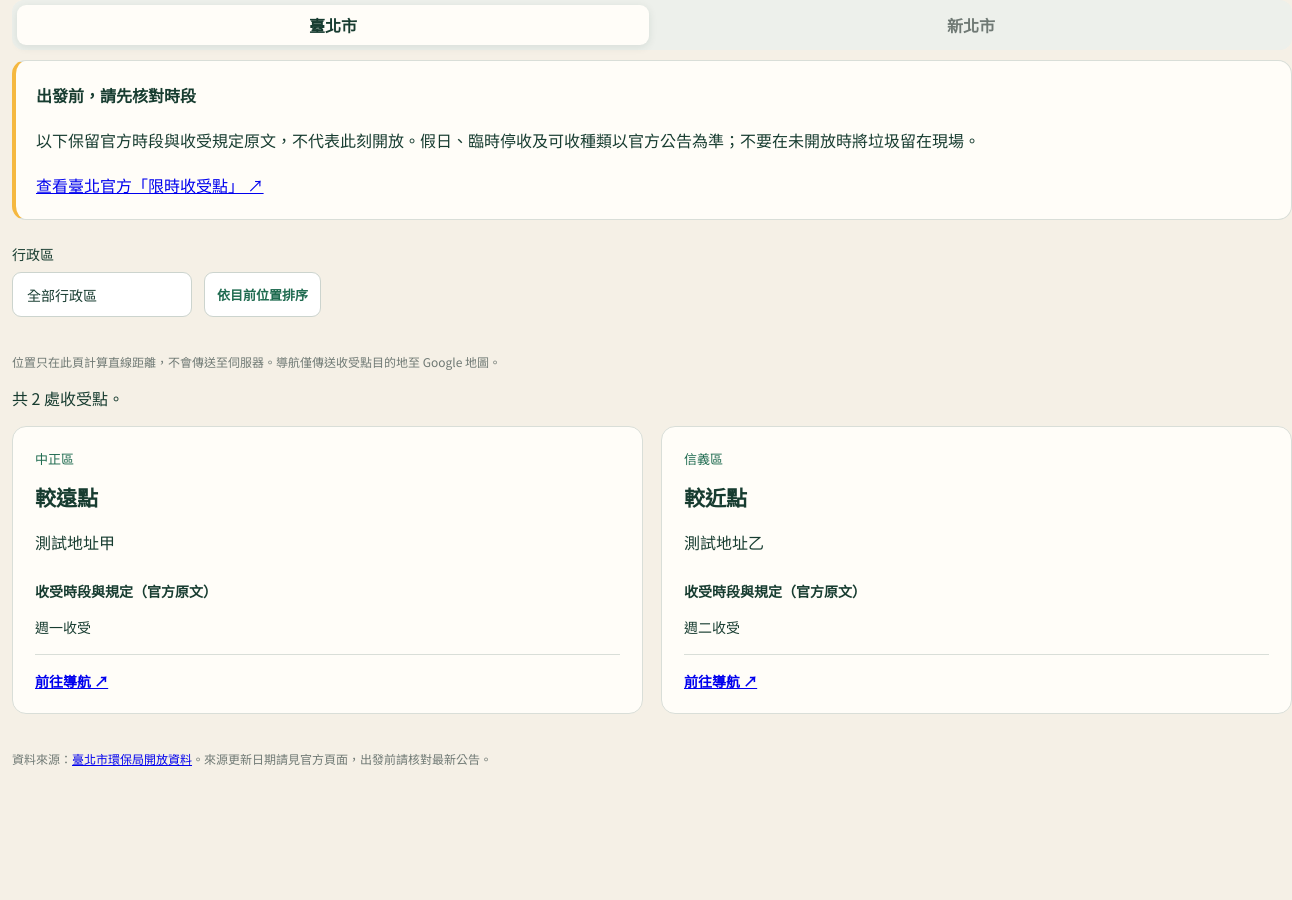
Test case: 定位拒絕後仍可手動查詢，導航不包含使用者起點
Step 1. Click the button "依目前位置排序" → (262, 295), box [204,272,321,317]
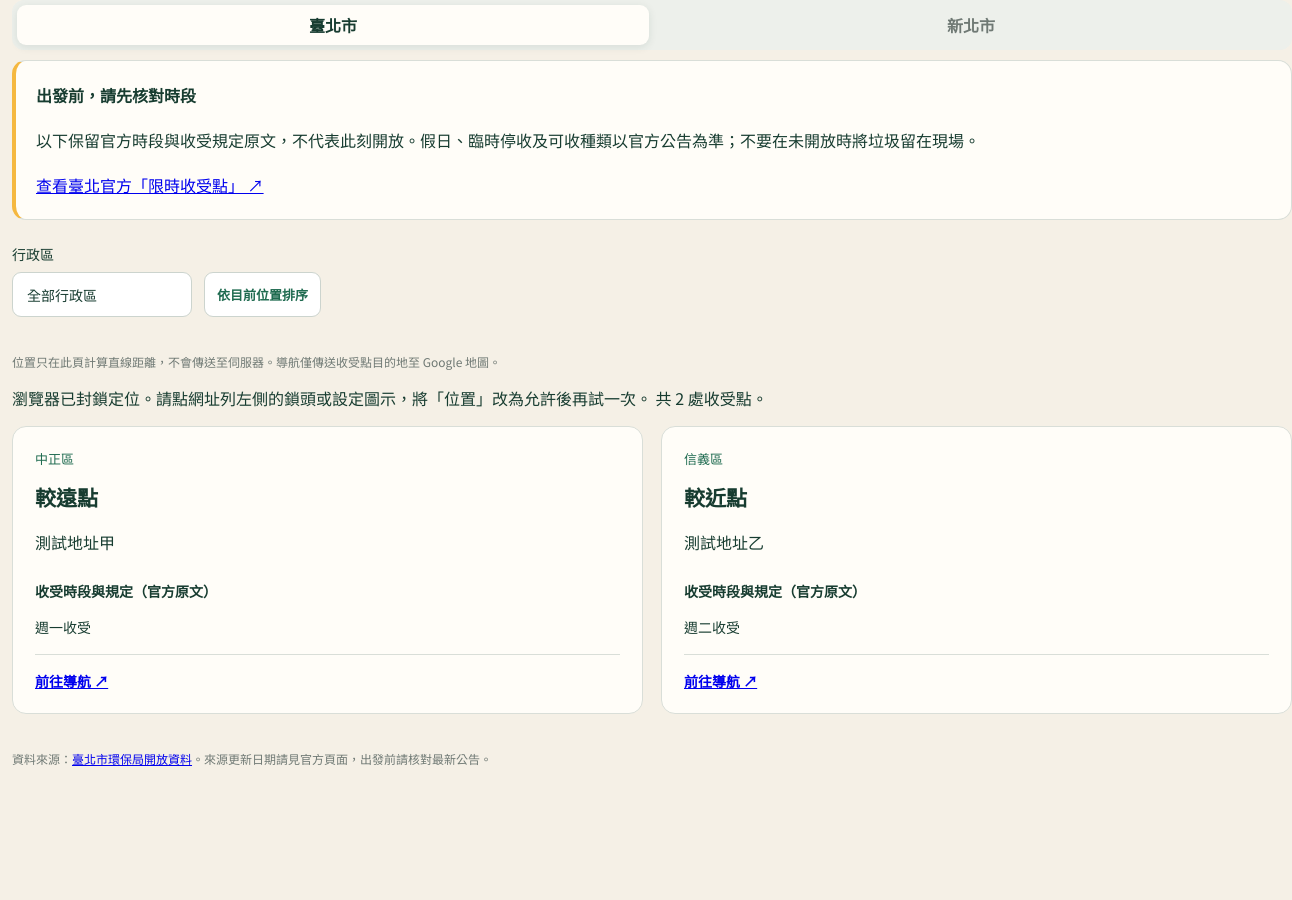
expect the message shows "封鎖定位": met, box [12,386,652,410]
